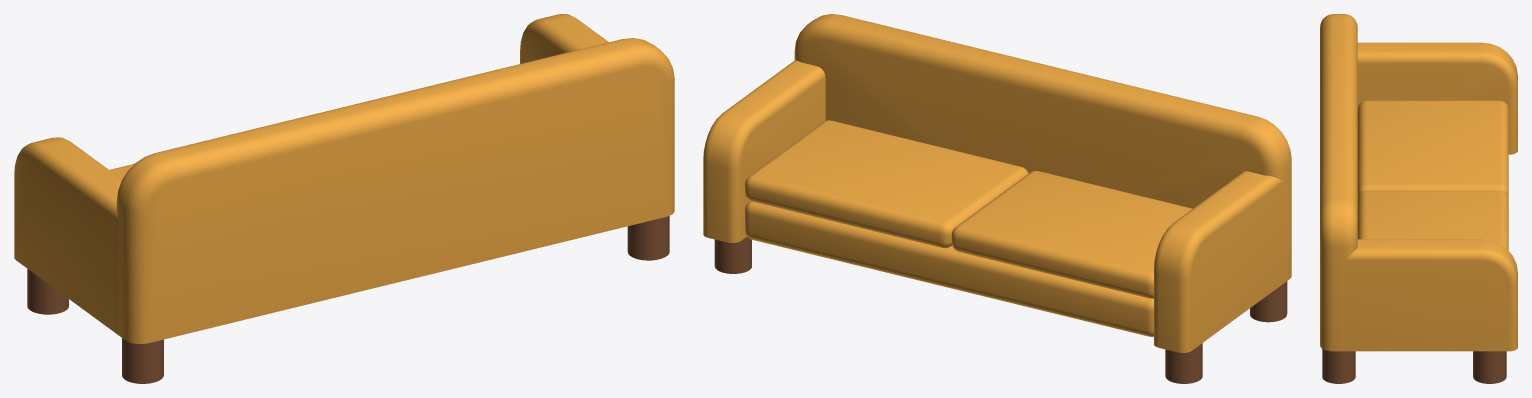
Rendered from Couch4.fbx.
3 views of the same model, side by side, from view 1: azimuth 30°, elevation 25°; view 2: azimuth 150°, elevation 25°; view 3: azimuth 270°, elevation 25° (orthographic). The views are drawn at different scales.
Visible parts, largest first — view 1: Couch4; view 2: Couch4; view 3: Couch4.
Part boxes in pixels (x1,y1,x2,y2): Couch4: [14, 14, 674, 383]; Couch4: [703, 14, 1291, 383]; Couch4: [1320, 14, 1517, 383].
Bounding box in the file's own units: 200 × 74.69 × 78.66.
